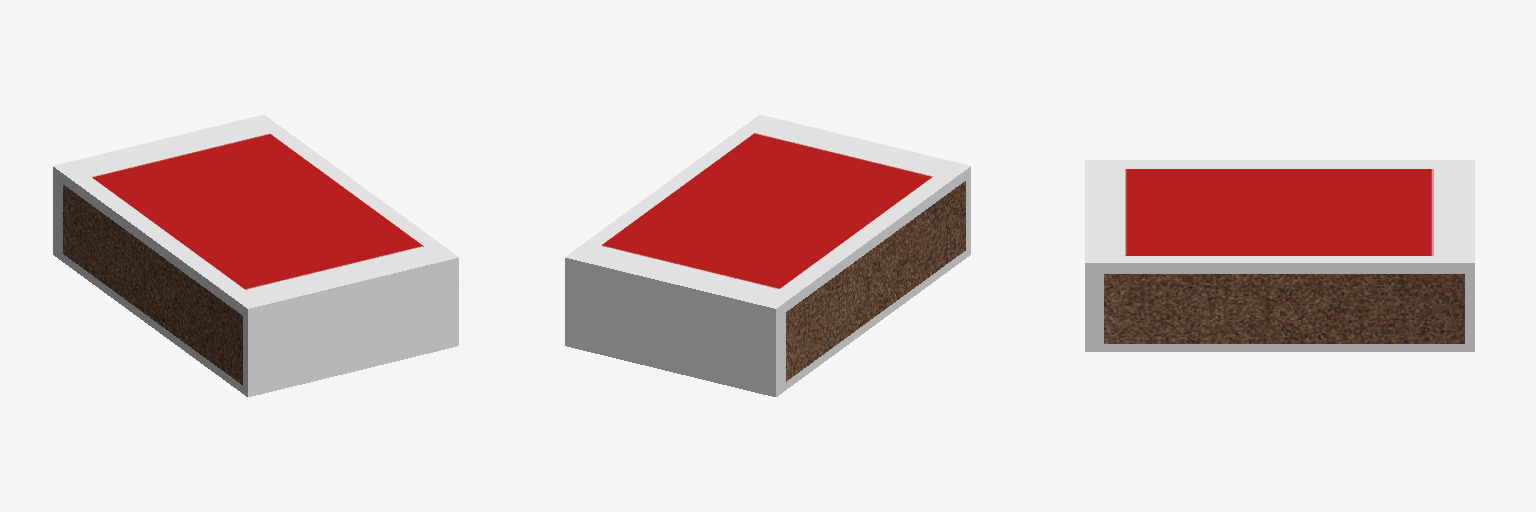
3 views of the same model, side by side, from view 1: azimuth 30°, elevation 25°; view 2: azimuth 150°, elevation 25°; view 3: azimuth 270°, elevation 25° (orthographic).
Visible parts, largest first — view 1: pCube1; view 2: pCube1; view 3: pCube1.
Part boxes in pixels (bbox=[...]): pCube1: bbox=[53, 115, 458, 396]; pCube1: bbox=[565, 115, 970, 396]; pCube1: bbox=[1085, 160, 1474, 351].
Size of the model in its own units: 2.5 by 1 by 4.
Materials: 1 (1 with a texture image).